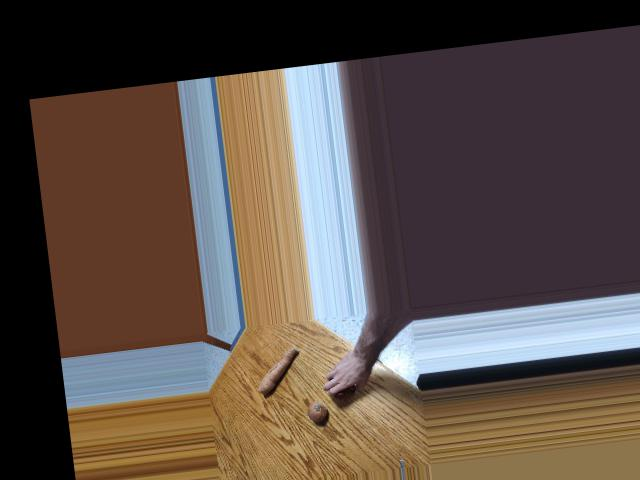onion: (330, 381, 353, 402)
